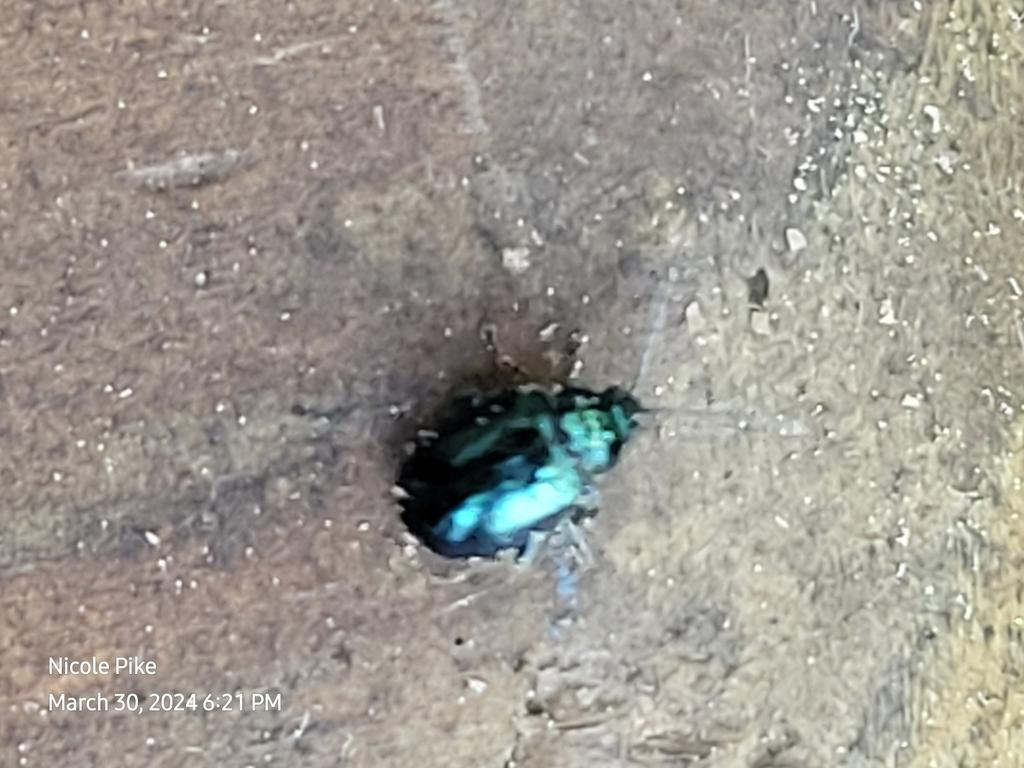flea_beetle: (345, 289, 710, 628)
